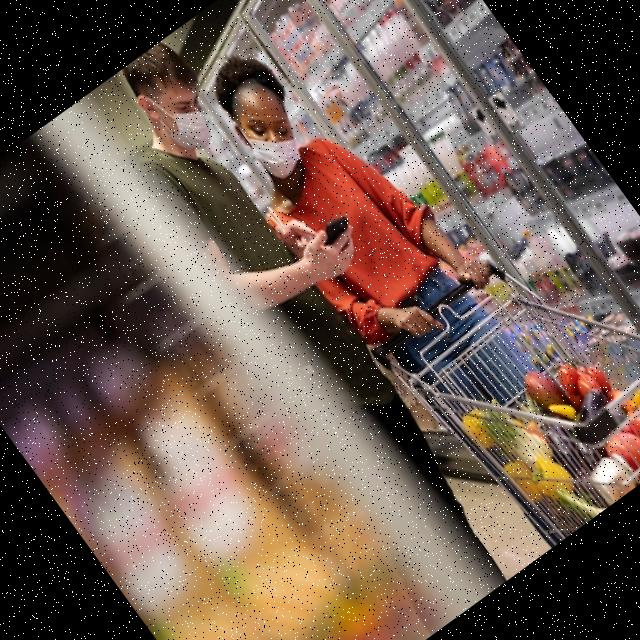Person: (56, 13, 574, 634), (173, 2, 640, 570)
